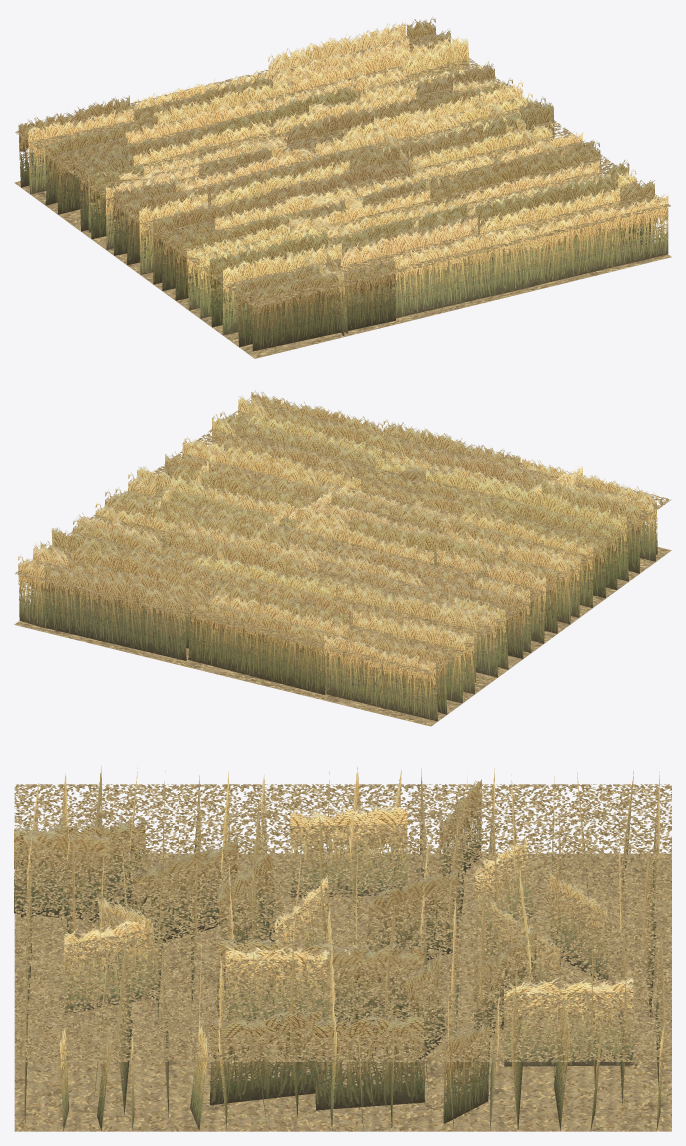
File: crop_wheat_patch.glb
The picture shows the model from 3 angles, top to bottom: view 1: azimuth 30°, elevation 25°; view 2: azimuth 150°, elevation 25°; view 3: azimuth 270°, elevation 25°; orthographic projection. The views are drawn at different scales.
Visible parts, largest first — view 1: crop_wheat_patch_LOD0, crop_wheat_patch_FLOOR; view 2: crop_wheat_patch_LOD0, crop_wheat_patch_FLOOR; view 3: crop_wheat_patch_LOD0, crop_wheat_patch_FLOOR.
Part boxes in pixels (bbox=[...]): crop_wheat_patch_LOD0: bbox=[15, 17, 670, 351]; crop_wheat_patch_FLOOR: bbox=[14, 181, 671, 358]; crop_wheat_patch_LOD0: bbox=[14, 390, 671, 721]; crop_wheat_patch_FLOOR: bbox=[14, 547, 671, 726]; crop_wheat_patch_LOD0: bbox=[14, 766, 671, 1130]; crop_wheat_patch_FLOOR: bbox=[14, 853, 671, 1131].
Size of what is drawn, in the model's own units: 6.01 by 0.9959 by 6.01.
Materials: 2 (2 with a texture image).
